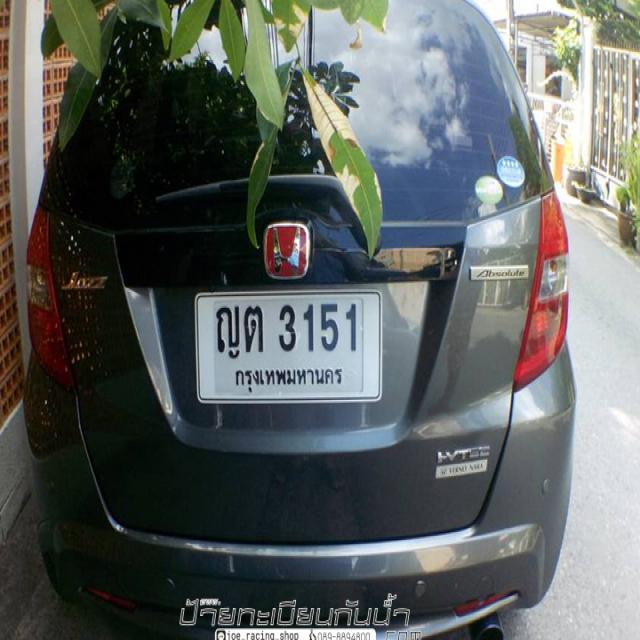license_plate: (192, 288, 385, 407)
